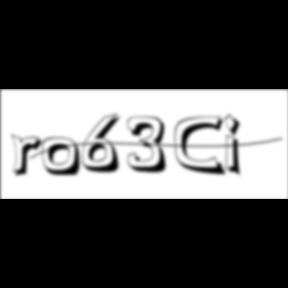3: (128, 116, 174, 176)
6: (82, 112, 128, 176)
C: (174, 115, 230, 178)
i: (224, 112, 248, 180)
o: (42, 137, 84, 179)
r: (11, 134, 49, 180)
